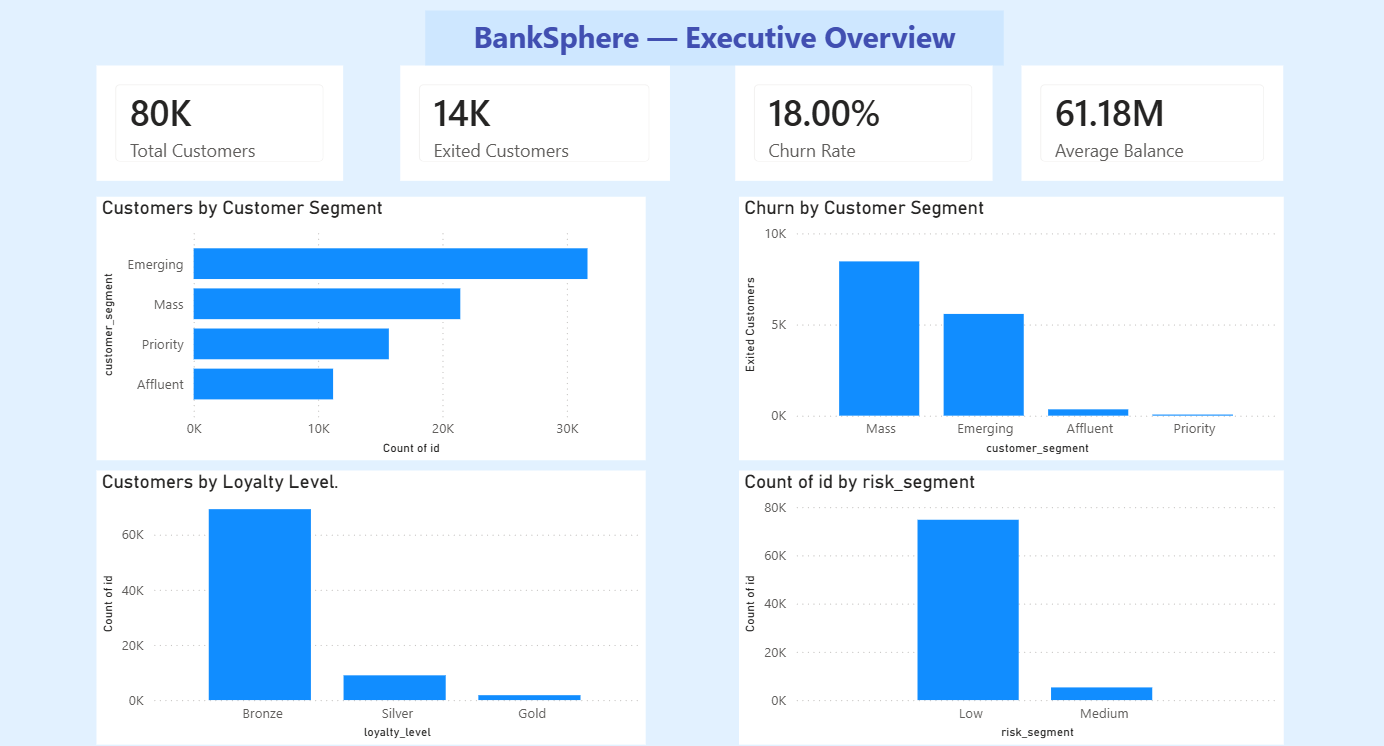

What the dashboard file says about the page in this screenshot:
{"tool":"powerbi","page":{"name":"Executive Overview","canvas":[1280,720],"ordinal":0},"visuals":[{"type":"cardVisual","fields":{"Data":["BankCustomers.Total Customers"]},"box":[87.8,101.5,222.3,104.3],"z":0},{"type":"cardVisual","fields":{"Data":["BankCustomers.Exited Customers"]},"box":[362.3,101.5,242.9,104.3],"z":1000},{"type":"cardVisual","fields":{"Data":["BankCustomers.Churn Rate"]},"box":[664.2,101.5,231.9,104.3],"z":2000},{"type":"cardVisual","fields":{"Data":["BankCustomers.Average Balance"]},"box":[922.1,101.5,236,104.3],"z":3000},{"type":"clusteredBarChart","title":"Customers by Customer Segment","fields":{"Category":["BankCustomers.customer_segment"],"Y":["CountNonNull(BankCustomers.id)"]},"box":[87.8,219.6,495.4,237.4],"z":4000},{"type":"clusteredColumnChart","title":"Churn by Customer Segment","fields":{"Category":["BankCustomers.customer_segment"],"Y":["BankCustomers.Exited Customers"]},"box":[666.9,219.6,491.3,237.4],"z":5000},{"type":"clusteredColumnChart","title":"Customers by Loyalty Level.","fields":{"Category":["BankCustomers.loyalty_level"],"Y":["CountNonNull(BankCustomers.id)"]},"box":[87.8,466.6,495.4,247],"z":6000},{"type":"clusteredColumnChart","fields":{"Category":["BankCustomers.risk_segment"],"Y":["CountNonNull(BankCustomers.id)"]},"box":[666.9,466.6,491.3,247],"z":7000},{"type":"textbox","box":[384.2,52.1,521.4,49.4],"z":8000}]}

Visuals, with their boxes on the page's 1280x720 design canvas (x1, y1, x2, y2). These are canvas units, not pixel positions in the 1384x746 screenshot, which may show the page scaled, cropped or inside an application window:
cardVisual - BankCustomers.Total Customers: left=88, top=102, right=310, bottom=206
cardVisual - BankCustomers.Exited Customers: left=362, top=102, right=605, bottom=206
cardVisual - BankCustomers.Churn Rate: left=664, top=102, right=896, bottom=206
cardVisual - BankCustomers.Average Balance: left=922, top=102, right=1158, bottom=206
"Customers by Customer Segment" clusteredBarChart: left=88, top=220, right=583, bottom=457
"Churn by Customer Segment" clusteredColumnChart: left=667, top=220, right=1158, bottom=457
"Customers by Loyalty Level." clusteredColumnChart: left=88, top=467, right=583, bottom=714
clusteredColumnChart - BankCustomers.risk_segment x CountNonNull(BankCustomers.id): left=667, top=467, right=1158, bottom=714
textbox: left=384, top=52, right=906, bottom=102
